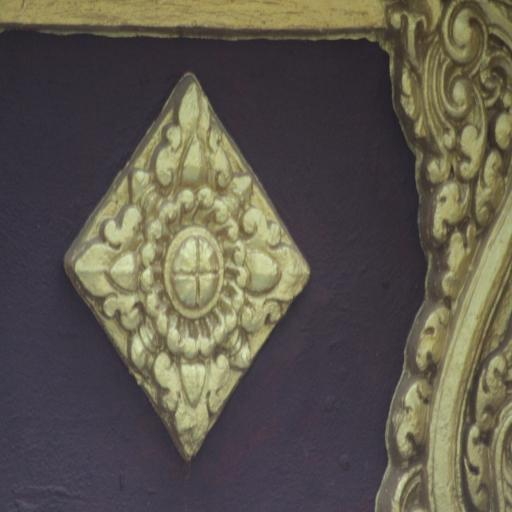hoa: (84, 99, 300, 433)
